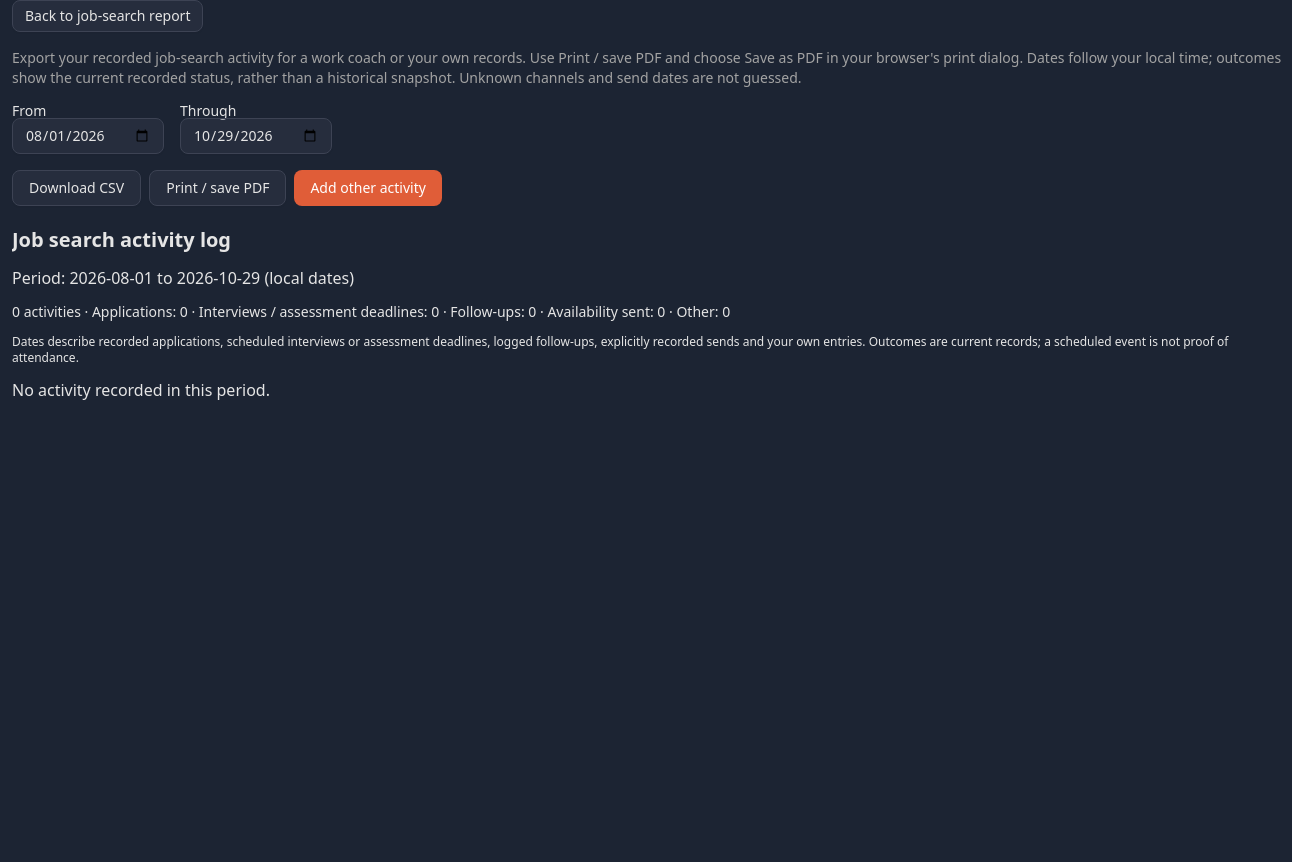
Test: activity-log UI › keeps drafts after a failed save
Expected: the heading "Job search activity log" is shown, x1=12 y1=226 x2=231 y2=253
Type "2026-01-01" into the date field labelled "From". click: (88, 136)
box: x1=12 y1=118 x2=164 y2=154
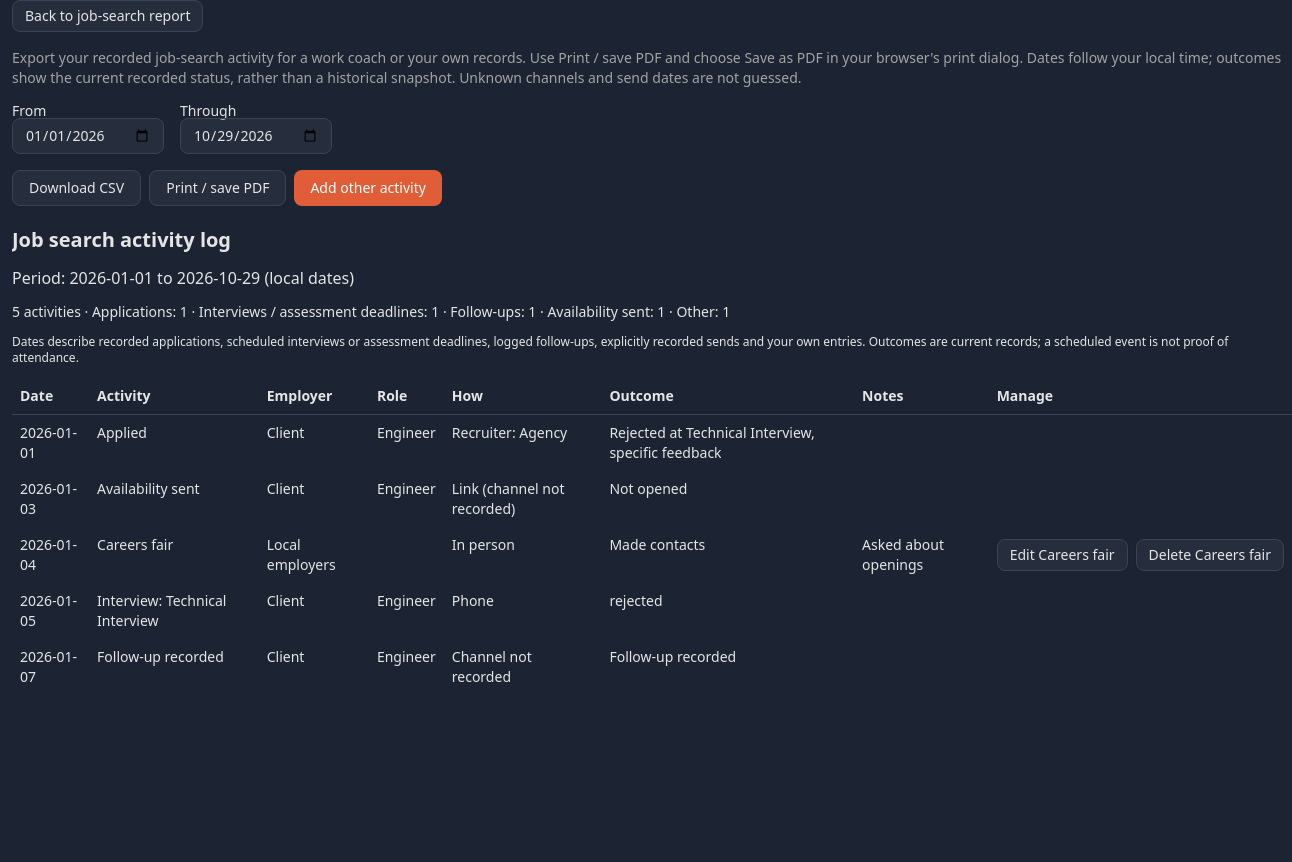
Type "2026-01-31" into the date field labelled "Through". click: (256, 136)
box: x1=180 y1=118 x2=332 y2=154
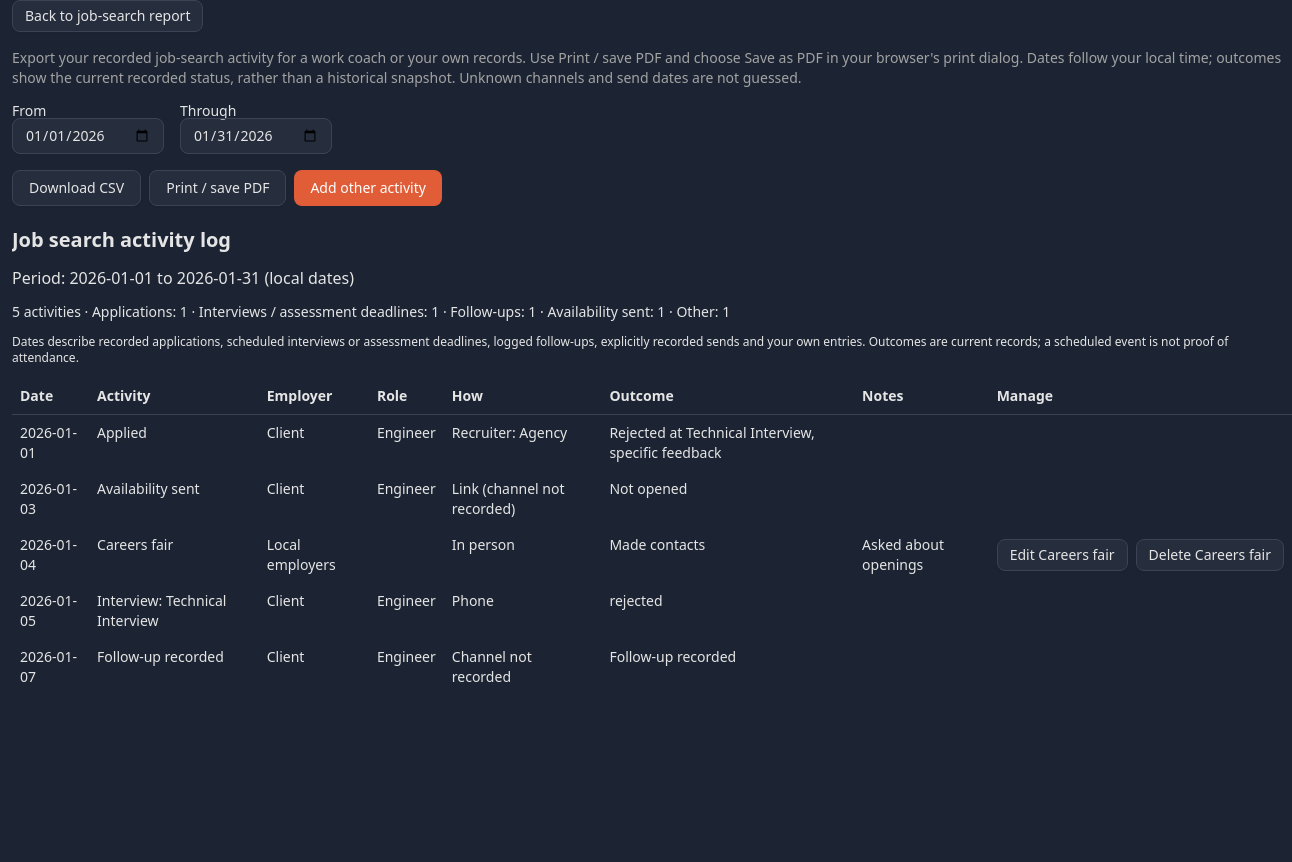
Click the button "Add other activity". click: (368, 188)
box: x1=294 y1=170 x2=442 y2=206
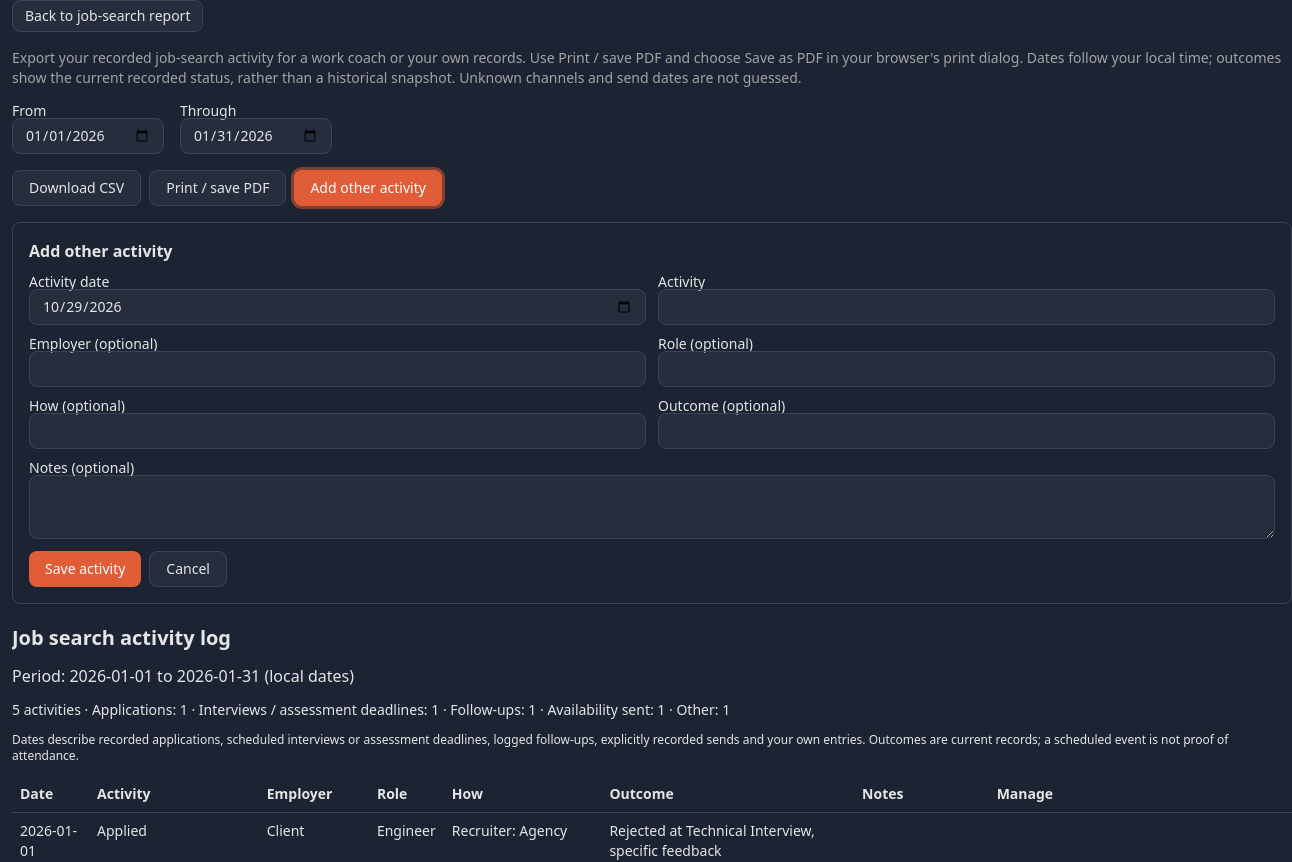
Type "Keep this draft" into the field labelled "Activity". click: (966, 307)
box: x1=658 y1=289 x2=1275 y2=325
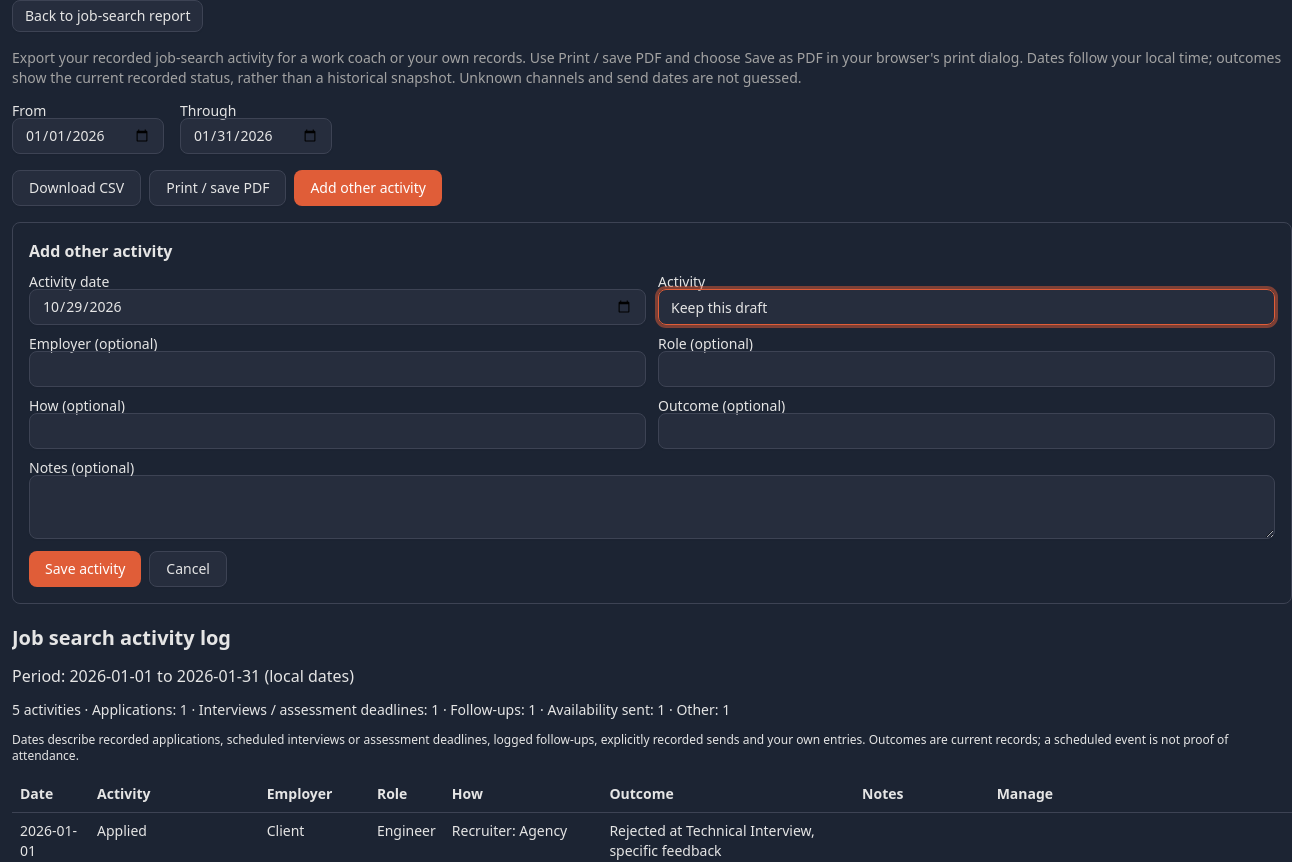
Click the button "Save activity". click: (85, 569)
box: x1=29 y1=551 x2=141 y2=587
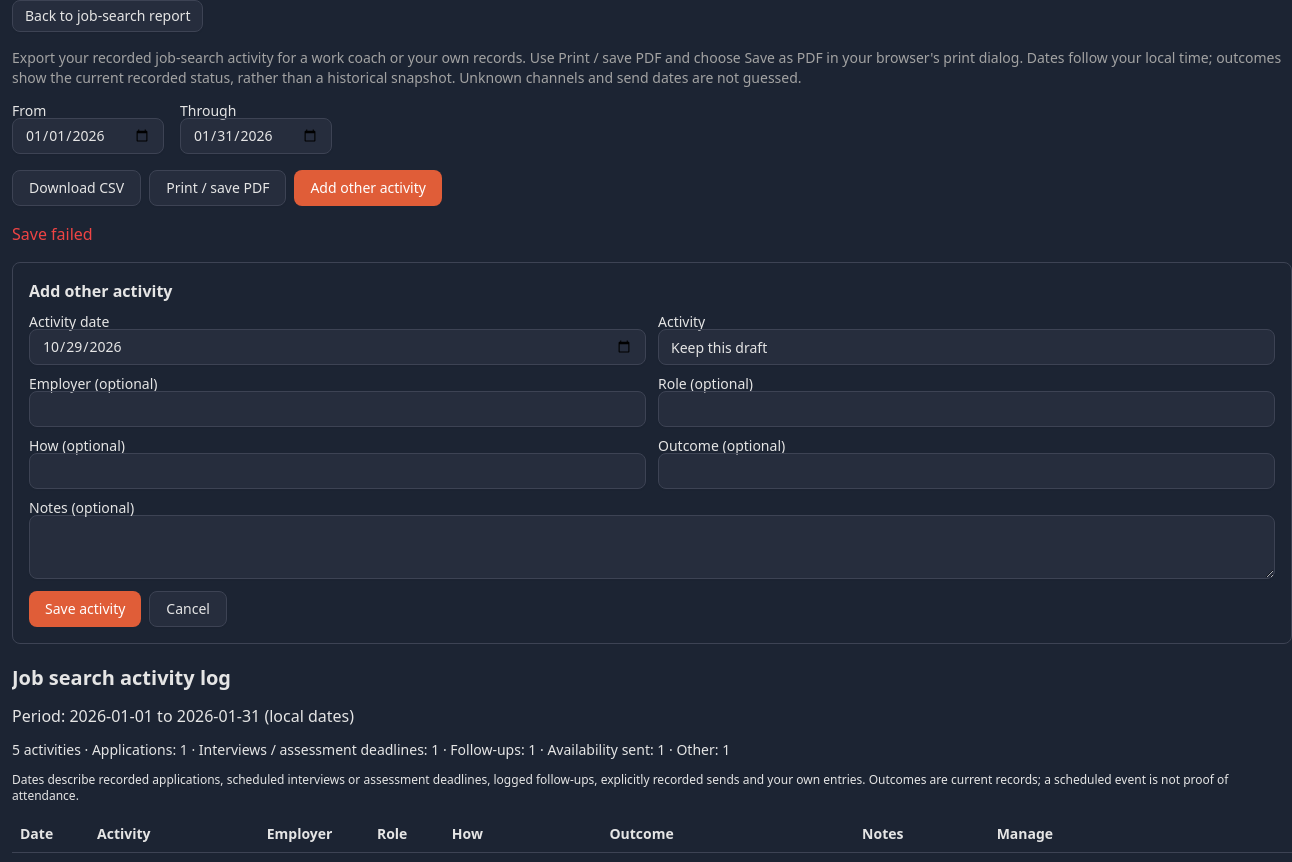
Expected: the message reads "Save failed", x1=12 y1=223 x2=93 y2=245
